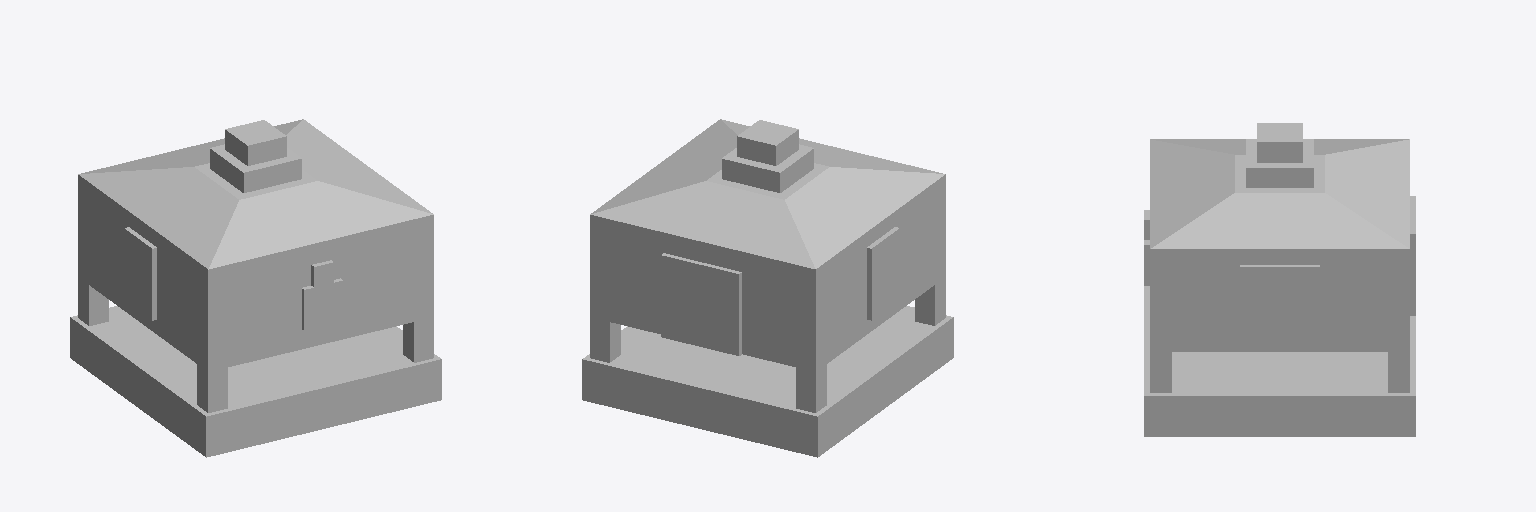
The model's file is crystallizer_mirrored.obj.
The picture shows the model from 3 angles: view 1: azimuth 30°, elevation 25°; view 2: azimuth 150°, elevation 25°; view 3: azimuth 270°, elevation 25°; orthographic projection.
Parts seen in each view (by area): view 1: Cube_Cube.001; view 2: Cube_Cube.001; view 3: Cube_Cube.001.
Part boxes in pixels (bbox=[...]): Cube_Cube.001: bbox=[70, 119, 441, 457]; Cube_Cube.001: bbox=[582, 119, 953, 457]; Cube_Cube.001: bbox=[1144, 123, 1415, 436].
Bounding box in the file's own units: 3 × 3 × 3.